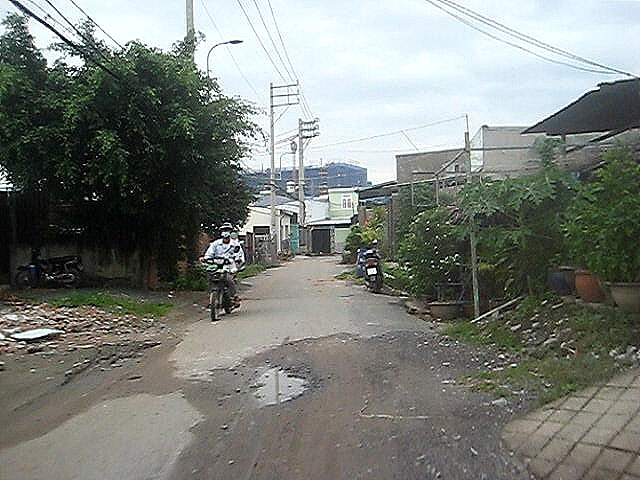hole: (225, 361, 325, 411)
